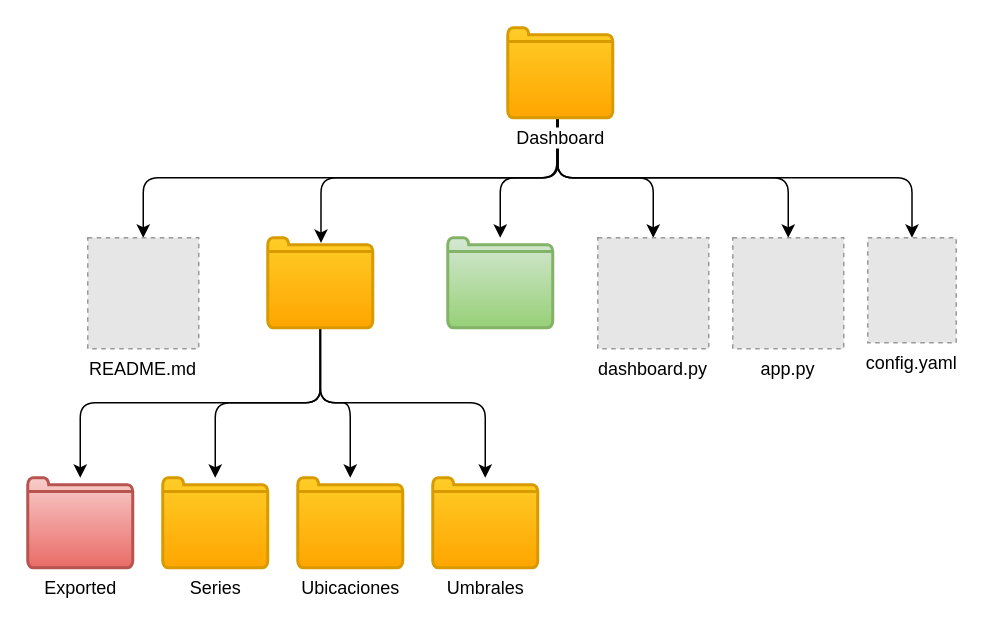
Image size: 983x624. Some labels were removed from this diagram. Grey dashed boxes stand in for pictures. The shapes that lost their labels are listed below. From the top down, each one's box as (x1, y1, x2, y2) in pixels, then its label:
(266, 236, 374, 328): Data
(446, 236, 554, 328): src
